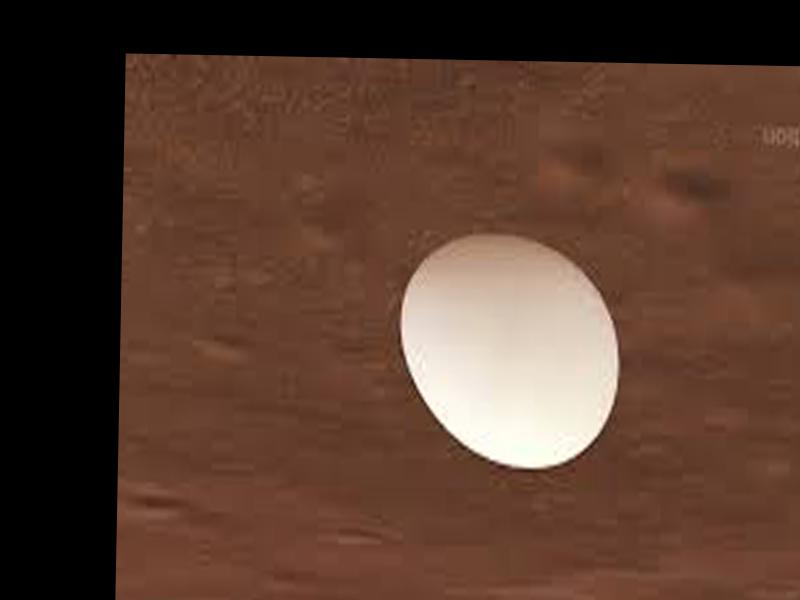Eggs: (395, 233, 622, 469)
